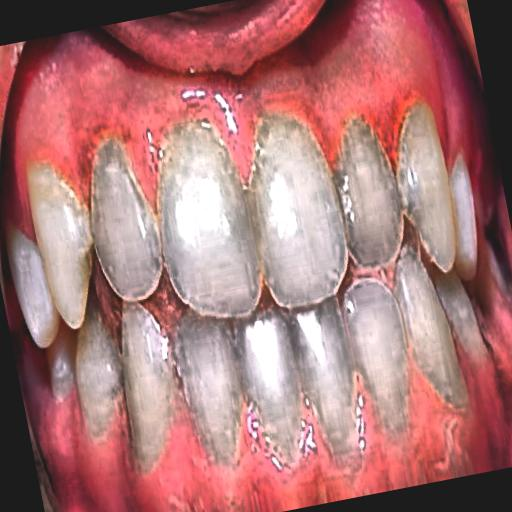Healthy: (26, 36, 488, 442)
